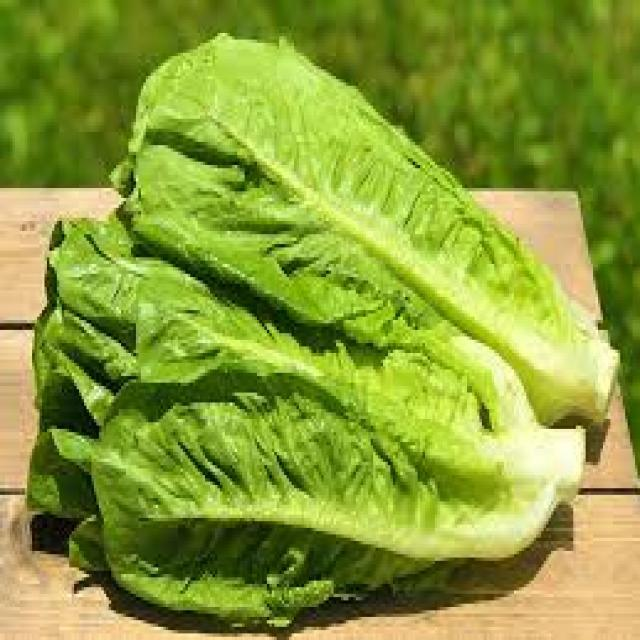Lettuce: (30, 196, 582, 606), (117, 22, 615, 430)
